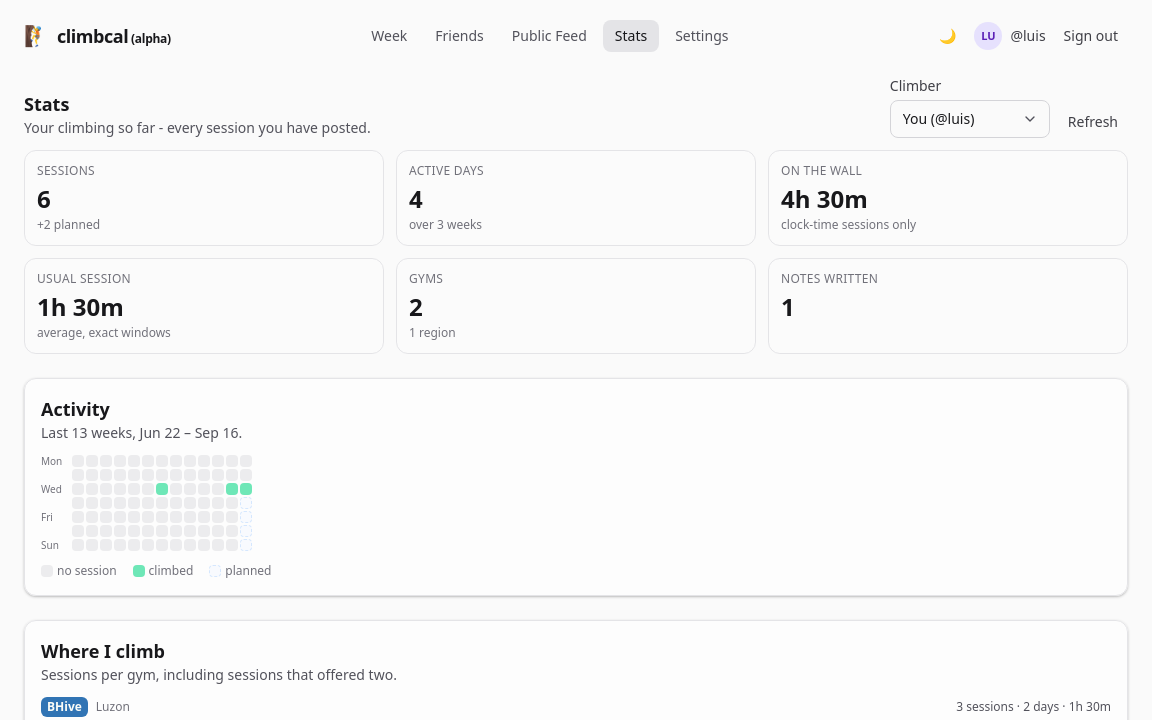
Test: <Stats /> › switches to a friend from the climber picker
Select "Mara (@mara)" in the dropdown labelled "Climber" at (970, 119), box [890,100,1050,138]
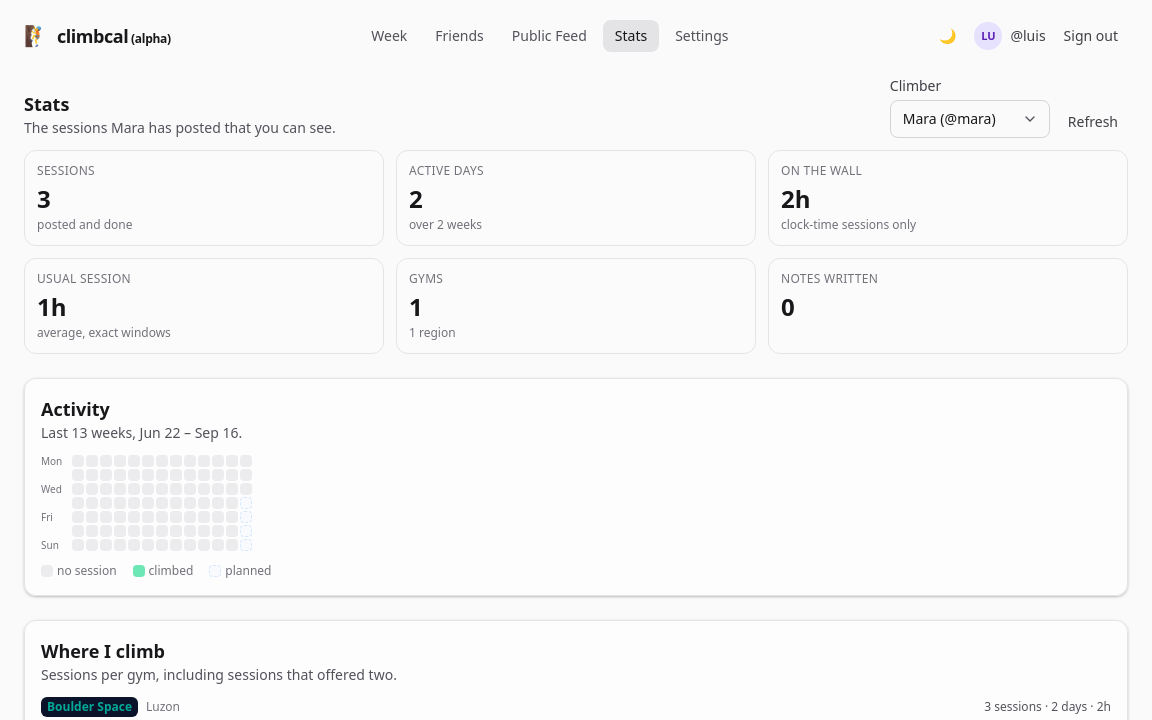
Now the text "The sessions Mara has posted that you can see." is shown, box [24,118,336,138]
Now the text "posted and done" is shown, box [37,216,132,233]
Now the text "+2 planned" is gone
